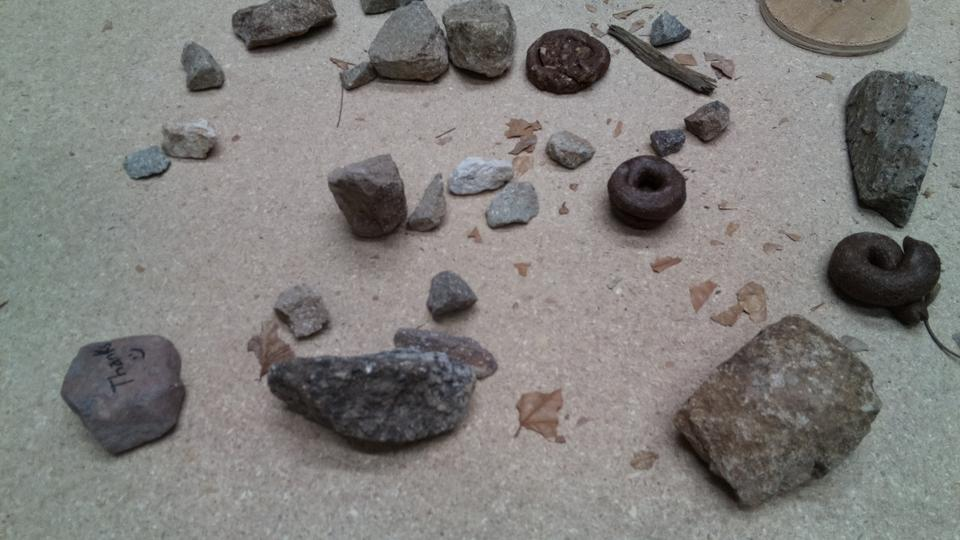poop: (823, 229, 943, 330), (606, 153, 684, 233), (524, 24, 610, 95)
